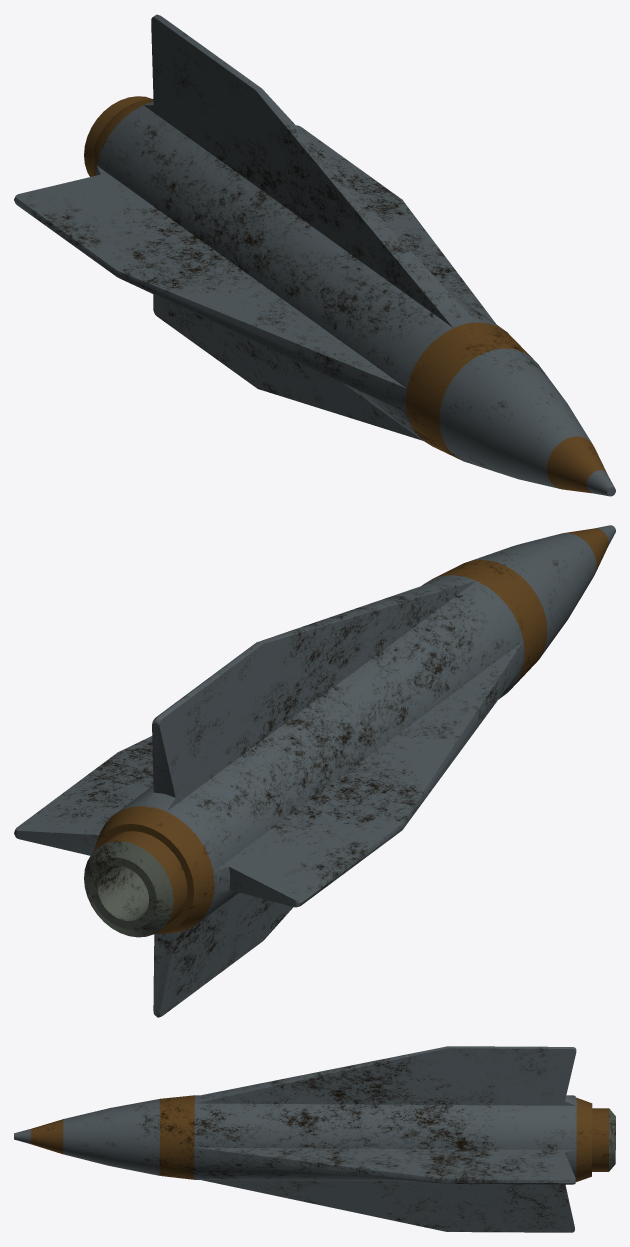
Rendered from missile.fbx.
The picture shows the model from 3 angles, top to bottom: view 1: azimuth 30°, elevation 25°; view 2: azimuth 150°, elevation 25°; view 3: azimuth 270°, elevation 25°; orthographic projection. The views are drawn at different scales.
Visible parts, largest first — view 1: Cylinder.002; view 2: Cylinder.002; view 3: Cylinder.002.
Boxes of the visible parts, bbox=[...] form: Cylinder.002: bbox=[14, 14, 615, 496]; Cylinder.002: bbox=[14, 525, 615, 1017]; Cylinder.002: bbox=[14, 1046, 615, 1232].
Size of the model in its own units: 201 by 202 by 591.
Materials: 1 (1 with a texture image).
